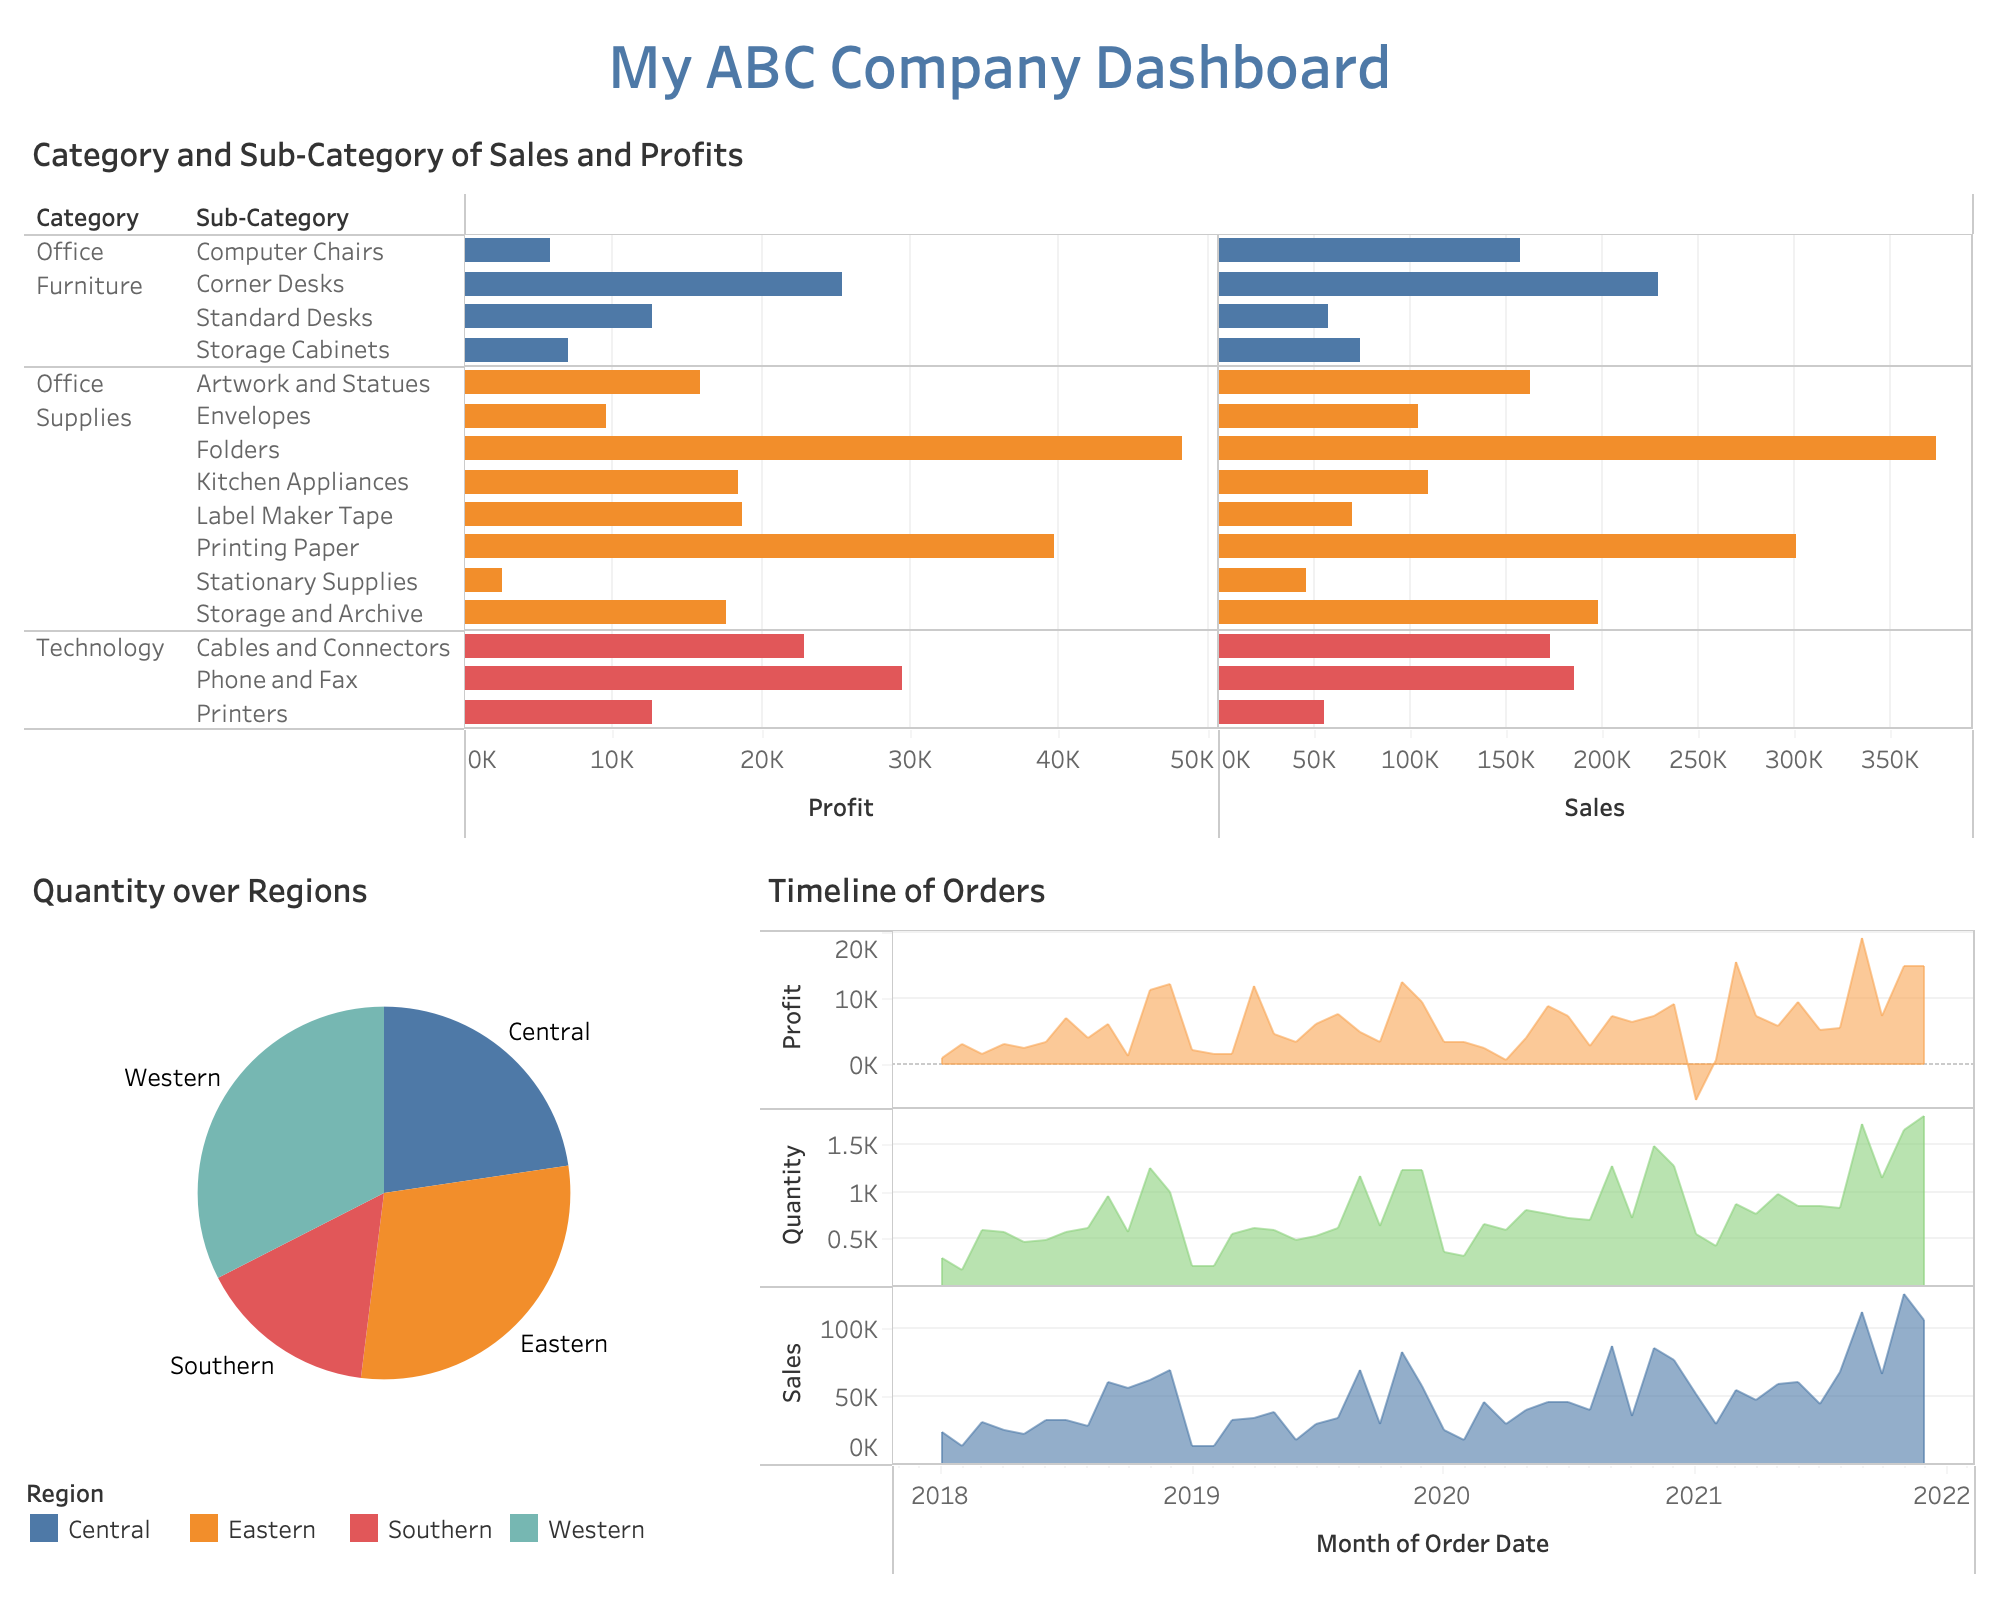

What the dashboard file says about the page in this screenshot:
{"tool":"tableau","page":{"name":"Dashboard 1","canvas":[1000,800],"ordinal":0},"visuals":[{"type":"title","box":[8,8,984,48]},{"type":"worksheet","title":"Bar","mark":"Automatic","rows":["Category","Sub-Category"],"cols":["Profit","Sales"],"box":[8,56,984,368]},{"type":"worksheet","title":"Pie","mark":"Pie","box":[8,424,368,307.9]},{"type":"worksheet","title":"Line and Area","mark":"Area","rows":["Profit","Quantity","Sales"],"cols":["Order Date"],"box":[376,424,616,368]},{"type":"legend","title":"Pie","param":"[federated.1l6ccd710eivro105bief0ljpe7w].[none:Region:nk]","box":[8,731.9,368,60.1]}]}

Visuals, with their boxes in screenshot pixels (x1, y1, x2, y2), scaled from the page's 1000x800 canvas onto the 2000x1600 screenshot:
title: rect(16, 16, 1984, 112)
"Bar" worksheet: rect(16, 112, 1984, 848)
"Pie" worksheet (Pie marks): rect(16, 848, 752, 1464)
"Line and Area" worksheet (Area marks): rect(752, 848, 1984, 1584)
"Pie" legend: rect(16, 1464, 752, 1584)
